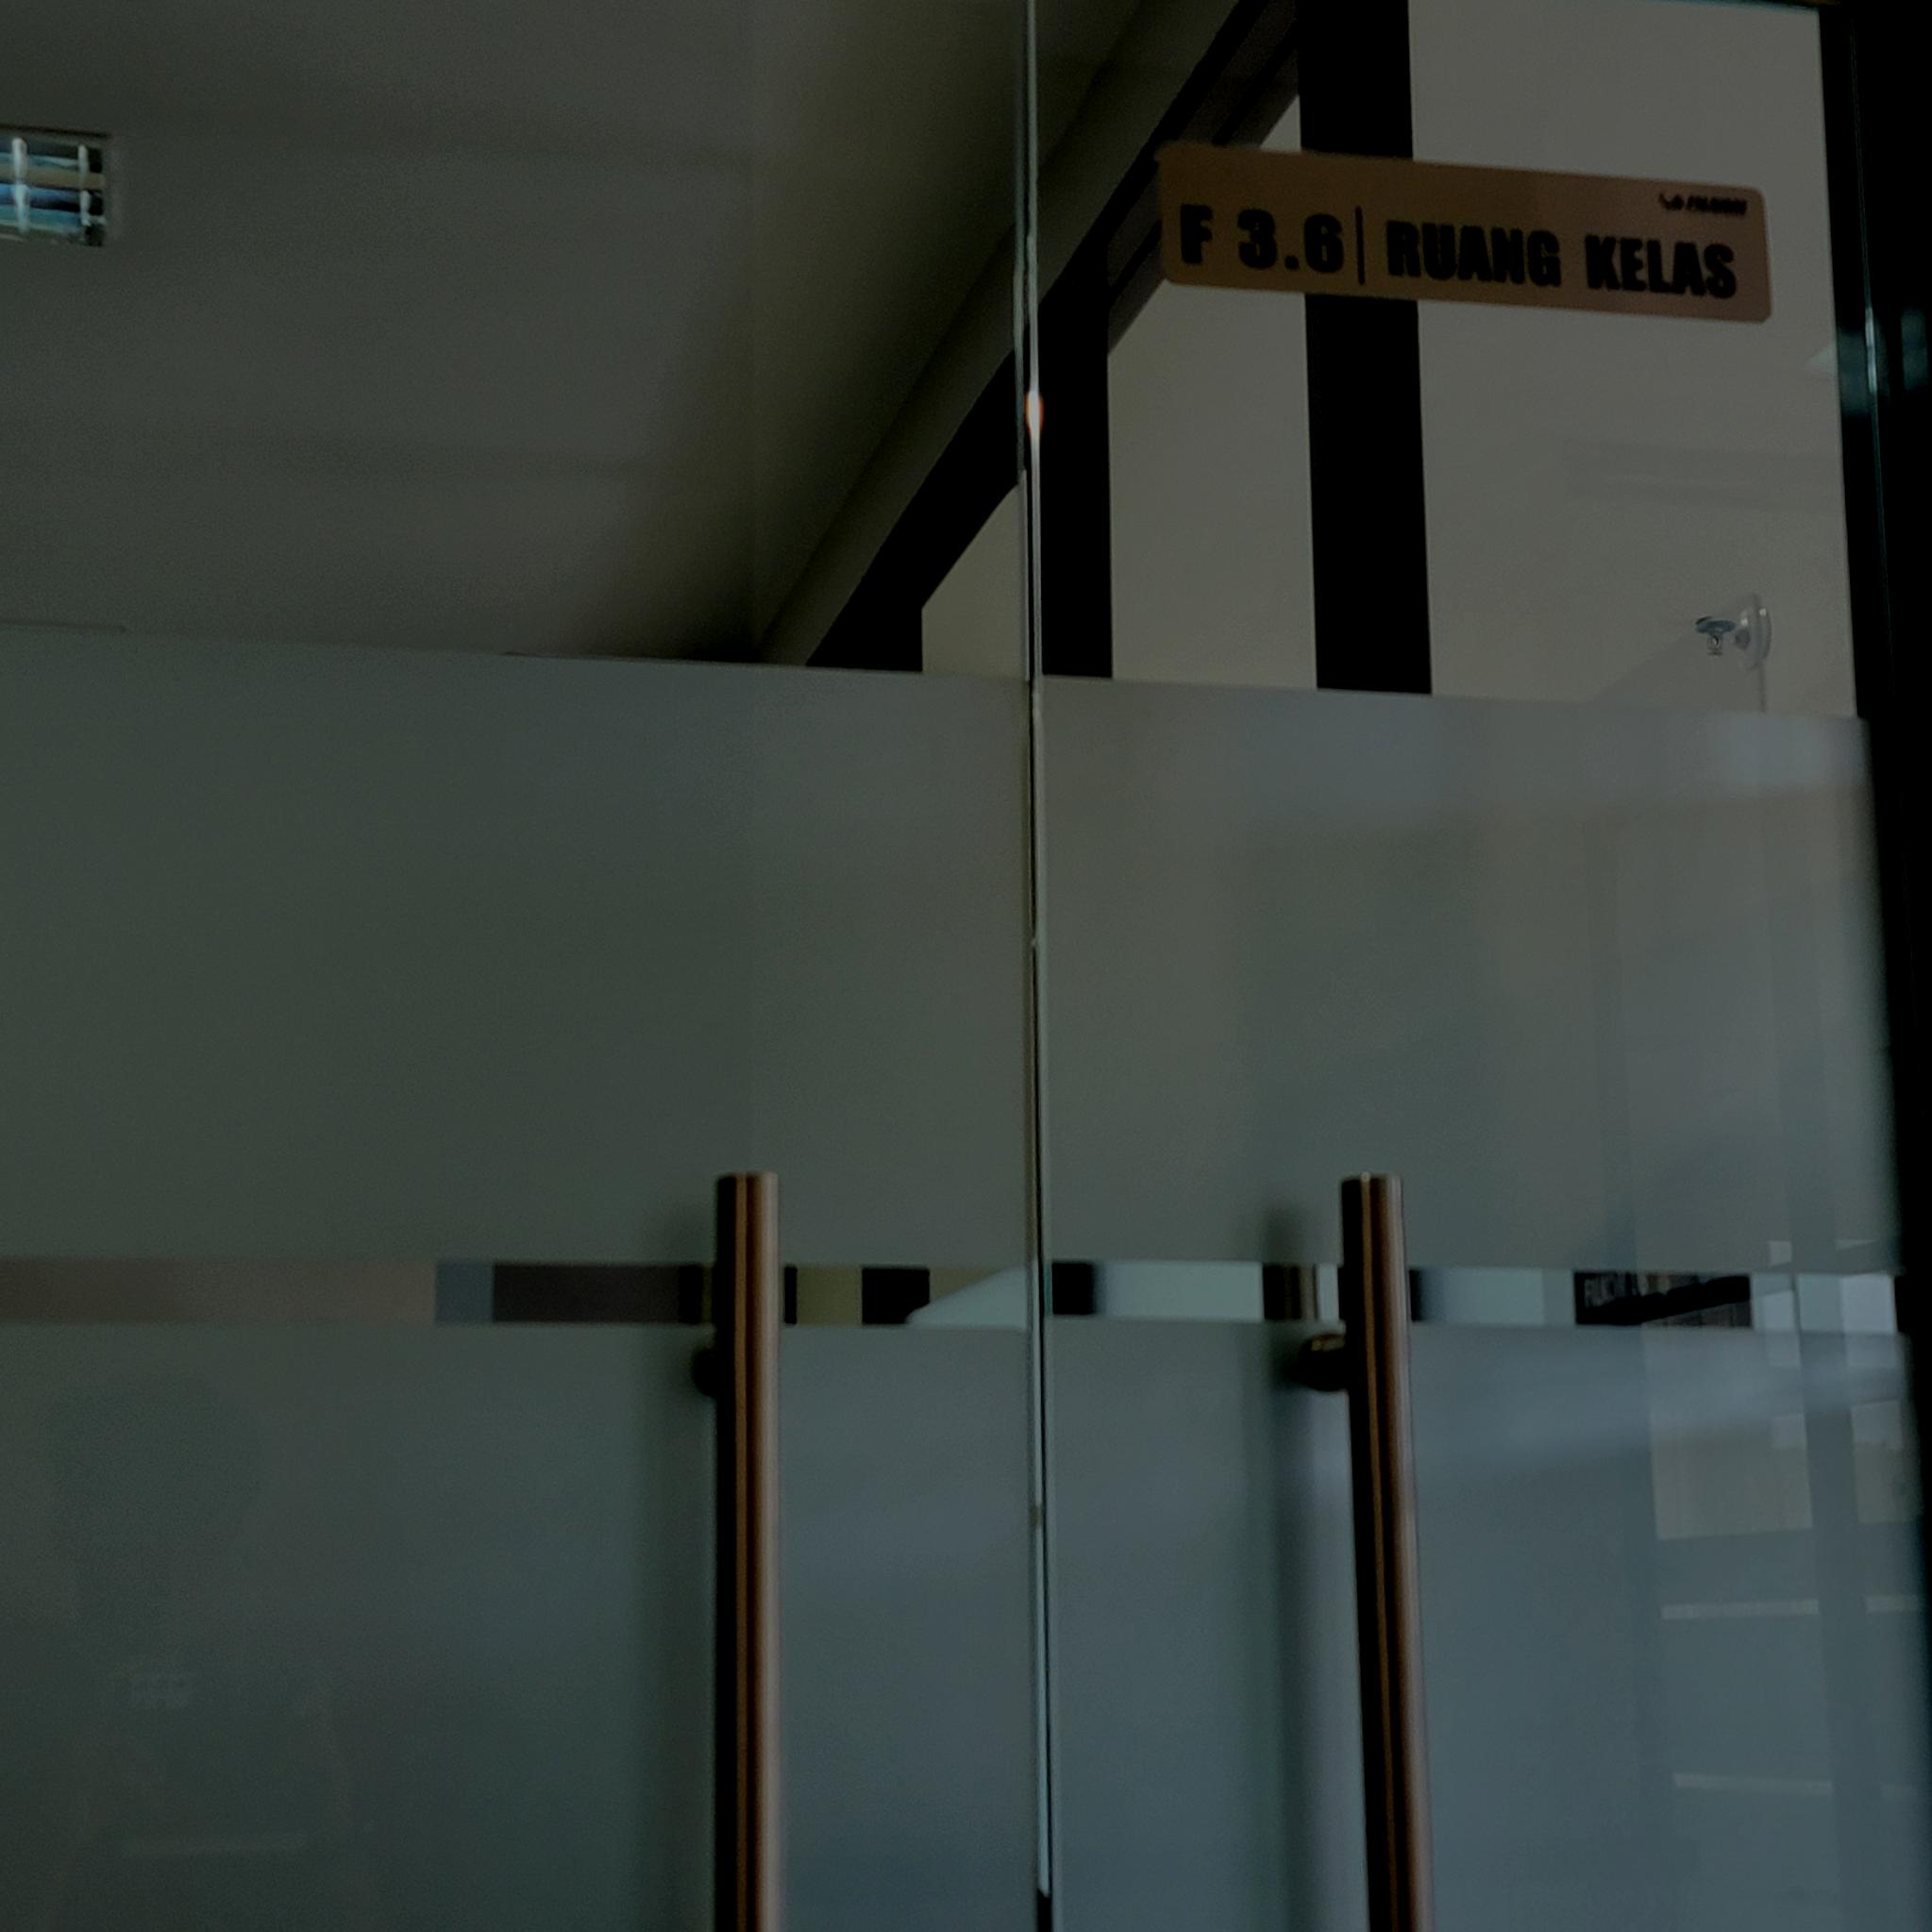plate: (1159, 140, 1771, 326)
